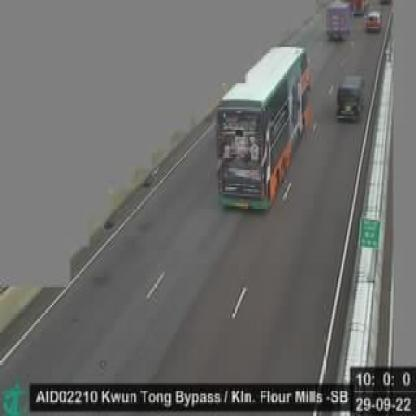Bus: (213, 42, 316, 218)
Car: (330, 66, 368, 132), (363, 3, 382, 40)
Truck: (319, 0, 352, 50)
